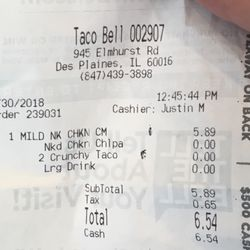Taco Bell: (72, 24, 125, 46)
